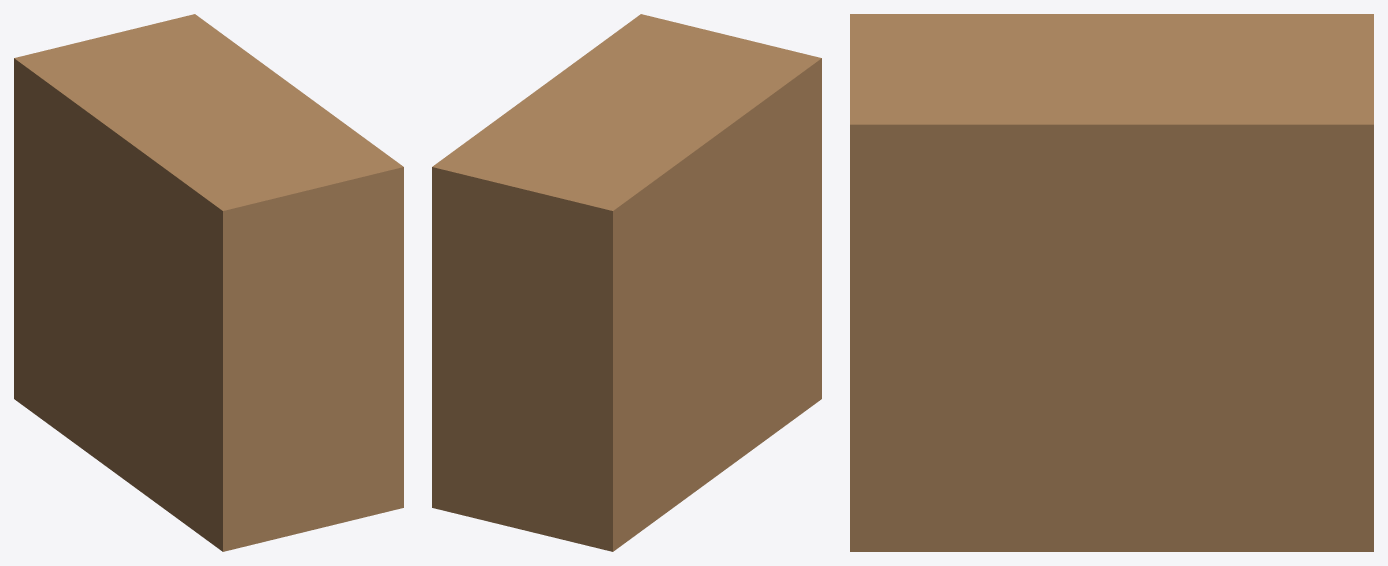
The model's file is bunk-bed-01.glb.
The picture shows the model from 3 angles, left to right: view 1: azimuth 30°, elevation 25°; view 2: azimuth 150°, elevation 25°; view 3: azimuth 270°, elevation 25°; orthographic projection. The views are drawn at different scales.
Bounding box in the file's own units: 1 × 1.8 × 2.
